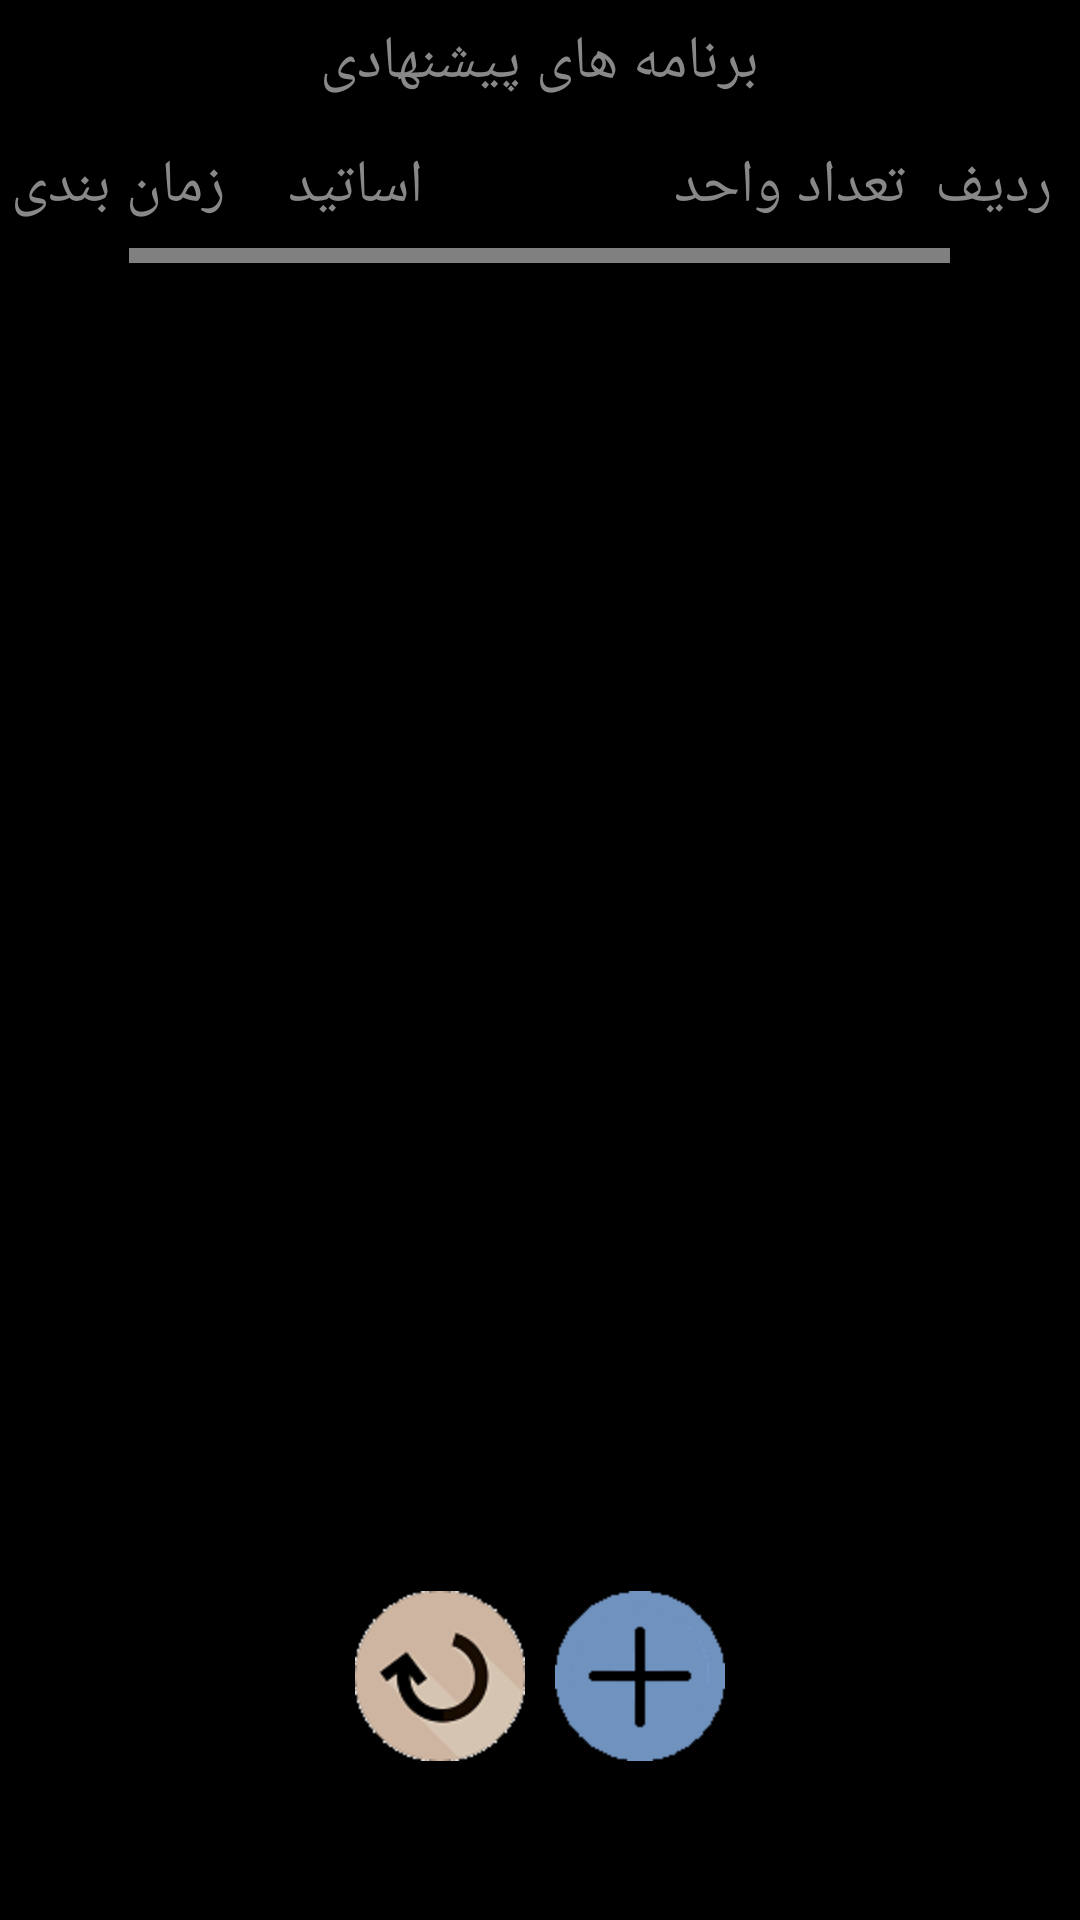

Point at icon controls on the screen. Image size 1080×1920, points as [x,y].
add: [640,1676]
redo: [440,1676]
